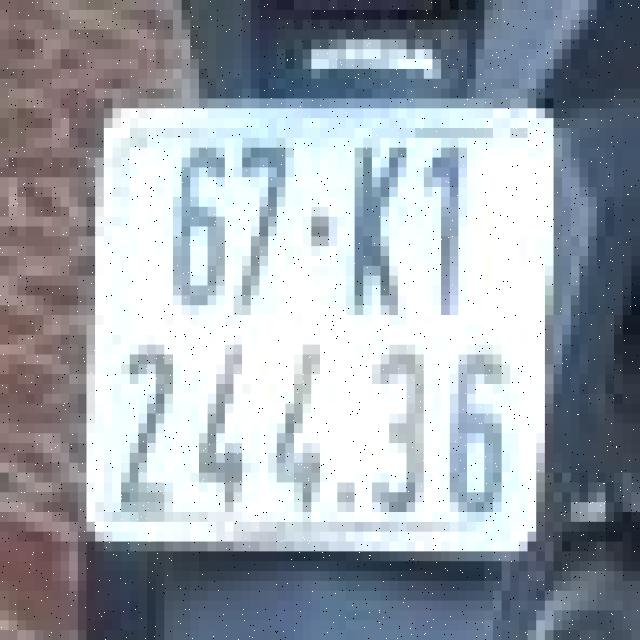1: (411, 133, 480, 320)
2: (112, 335, 182, 512)
3: (354, 330, 432, 517)
4: (272, 334, 342, 532), (195, 330, 255, 517)
6: (441, 335, 519, 522), (152, 128, 230, 305)
7: (234, 128, 302, 325)
K: (342, 123, 411, 320)
